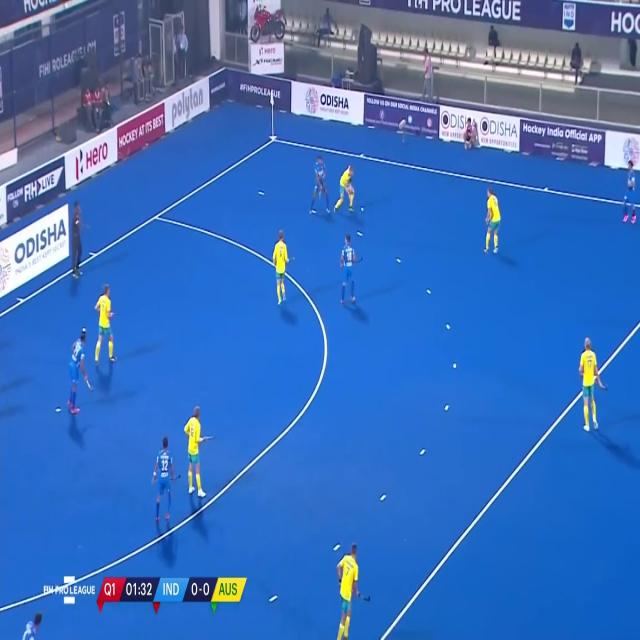ball: (360, 205, 367, 214)
